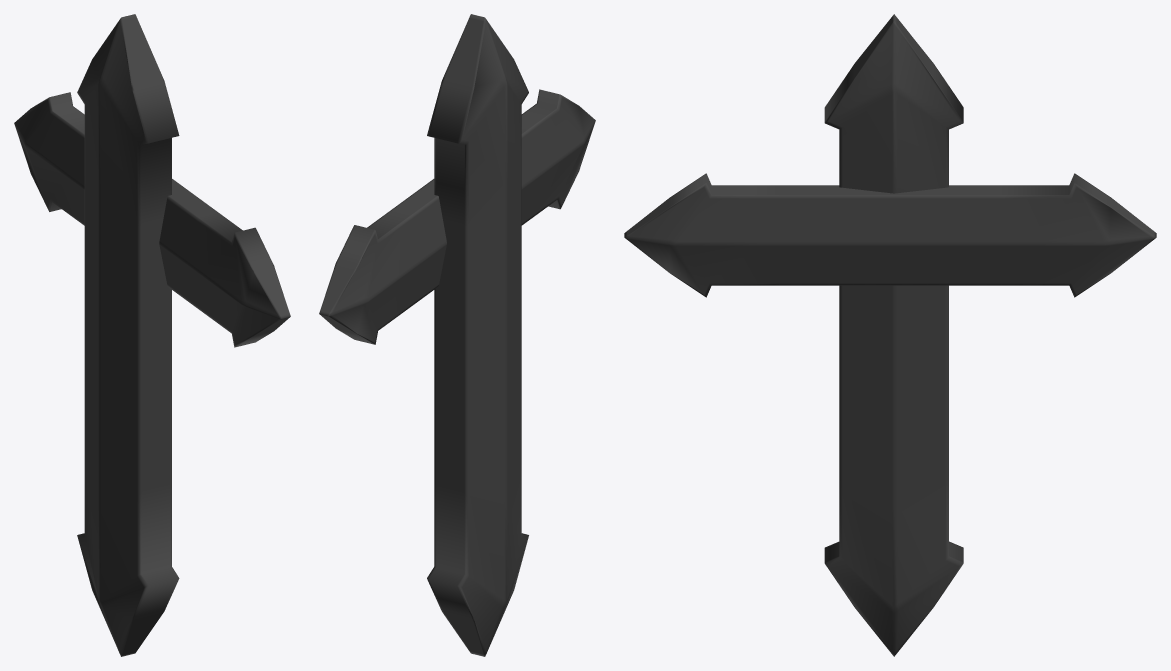
File: cruz pequena.fbx
The picture shows the model from 3 angles, left to right: view 1: azimuth 30°, elevation 25°; view 2: azimuth 150°, elevation 25°; view 3: azimuth 270°, elevation 25°; orthographic projection.
Parts seen in each view (by area): view 1: Cube, Cube.001; view 2: Cube, Cube.001; view 3: Cube, Cube.001.
Part boxes in pixels (x1,y1,x2,y2): Cube: [77, 14, 179, 656]; Cube.001: [14, 92, 290, 347]; Cube: [427, 14, 528, 656]; Cube.001: [319, 89, 595, 344]; Cube: [824, 14, 963, 656]; Cube.001: [624, 173, 1156, 297].
Bounding box in the file's own units: 110 × 957 × 725.
Materials: 1 (1 with a texture image).
